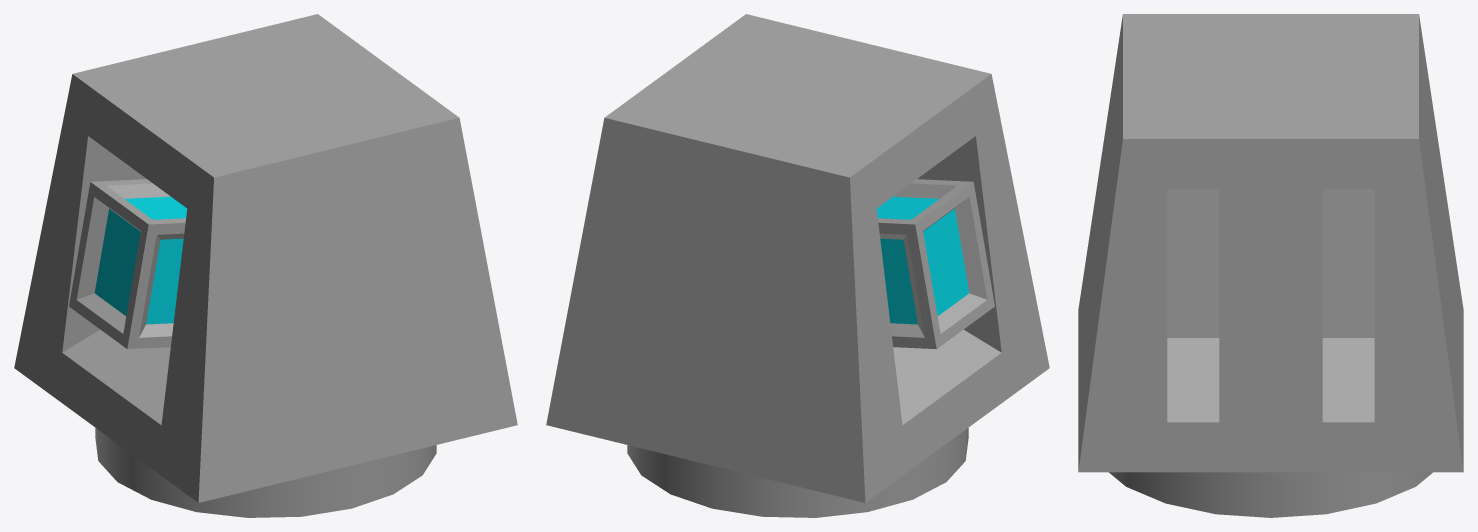
The model's file is Turret_Top.fbx.
3 views of the same model, side by side, from view 1: azimuth 30°, elevation 25°; view 2: azimuth 150°, elevation 25°; view 3: azimuth 270°, elevation 25° (orthographic). The views are drawn at different scales.
Visible parts, largest first — view 1: Top, Battery, Waist; view 2: Top, Battery, Waist; view 3: Top, Waist.
Boxes of the visible parts, x1,y1,x2,y2 form: Top: (14, 14, 517, 502); Battery: (69, 179, 187, 349); Waist: (95, 428, 436, 517); Top: (546, 14, 1049, 502); Battery: (876, 179, 994, 349); Waist: (627, 428, 968, 517); Top: (1078, 14, 1463, 472); Waist: (1109, 472, 1432, 517).
Bounding box in the file's own units: 165 × 168 × 160.
